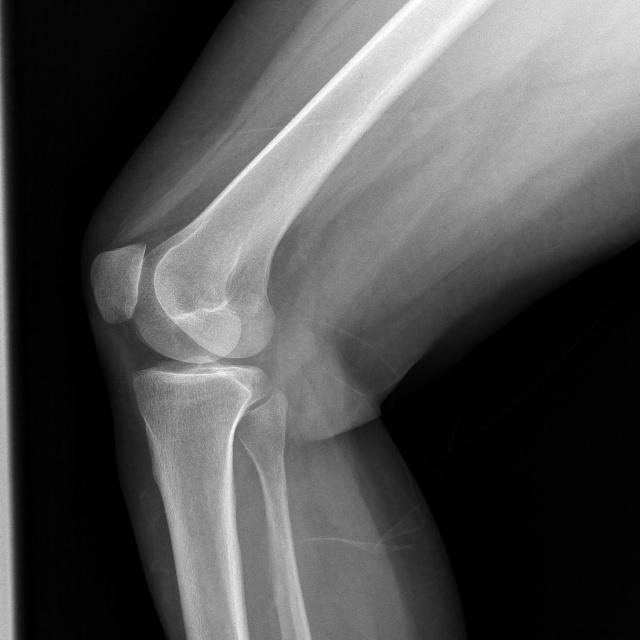Knee: (88, 239, 292, 438)
